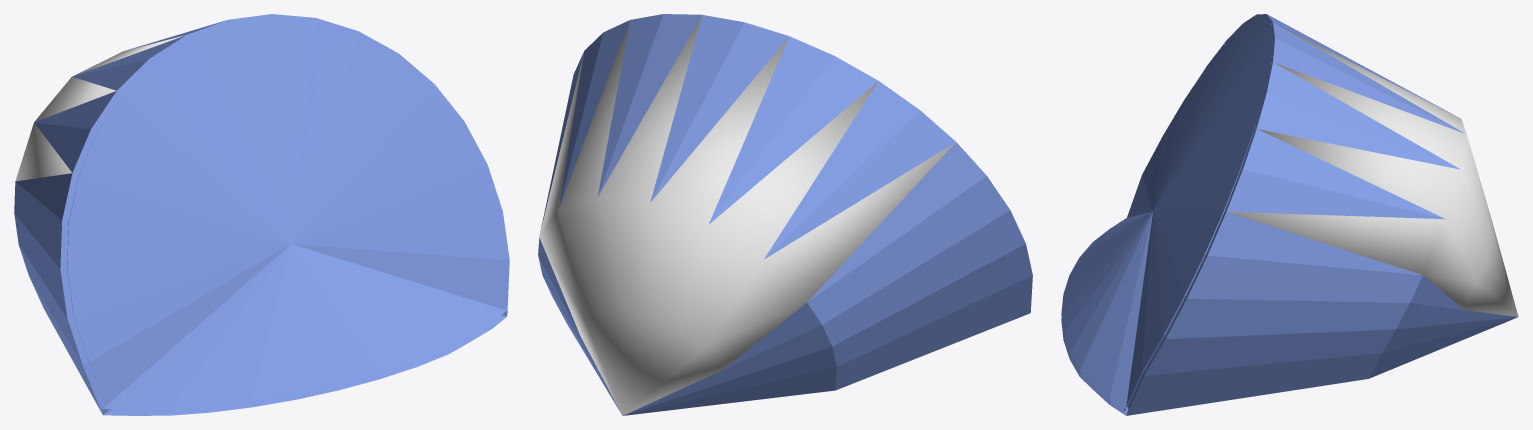
File: Cockpit6.fbx
The picture shows the model from 3 angles, left to right: view 1: azimuth 30°, elevation 25°; view 2: azimuth 150°, elevation 25°; view 3: azimuth 270°, elevation 25°; orthographic projection. The views are drawn at different scales.
Visible parts, largest first — view 1: Cone, Cone.001; view 2: Cone, Cone.001; view 3: Cone, Cone.001.
Boxes of the visible parts, box(x1,y1,x2,y2) form: Cone: box(14, 14, 509, 415); Cone.001: box(15, 15, 434, 181); Cone: box(538, 14, 1032, 415); Cone.001: box(539, 16, 955, 415); Cone: box(1061, 14, 1517, 415); Cone.001: box(1224, 15, 1518, 316).
Size of the model in its own units: 7111 by 4530 by 6656.
